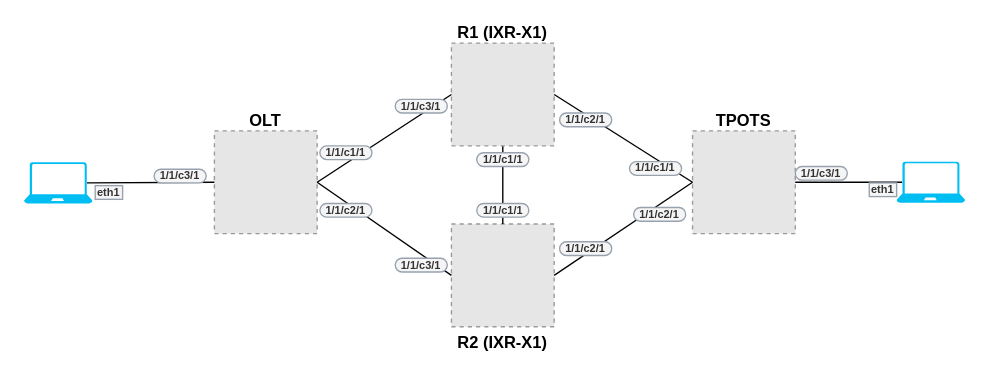
Some shapes in this 988 by 375 pixel diagram are drawn without their labels. Grey dashed boxes stand in for pictures. Each missing label, with the box of its shape:
host1: (896, 161, 964, 202)
host2: (23, 162, 92, 203)
